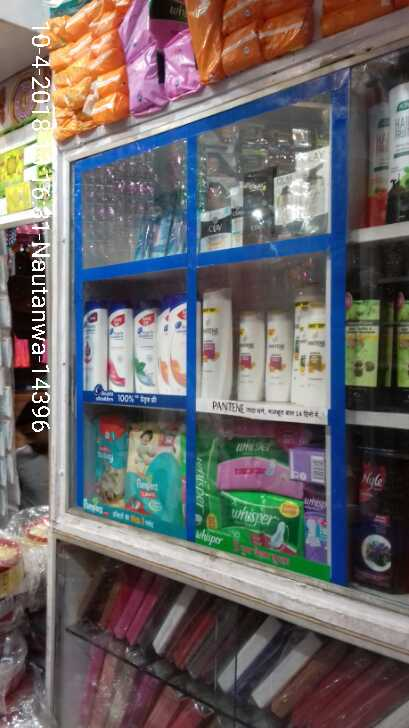venus: (136, 193, 167, 259), (171, 190, 188, 253)
